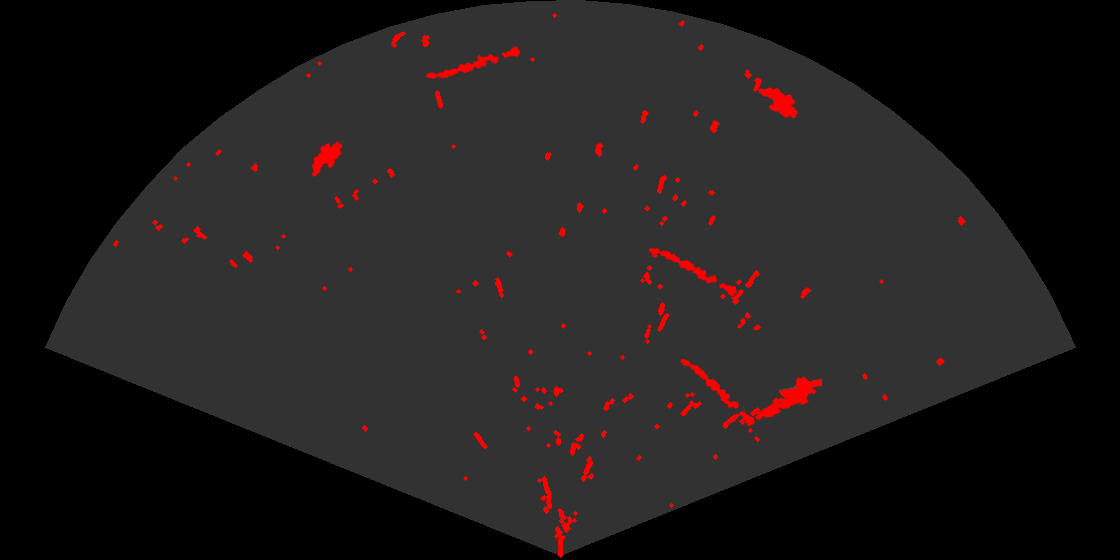AUV: (757, 86, 800, 120), (310, 140, 344, 178)
chain: (679, 357, 756, 428), (647, 246, 739, 298), (424, 45, 522, 81)
frogman: (753, 375, 822, 421)
